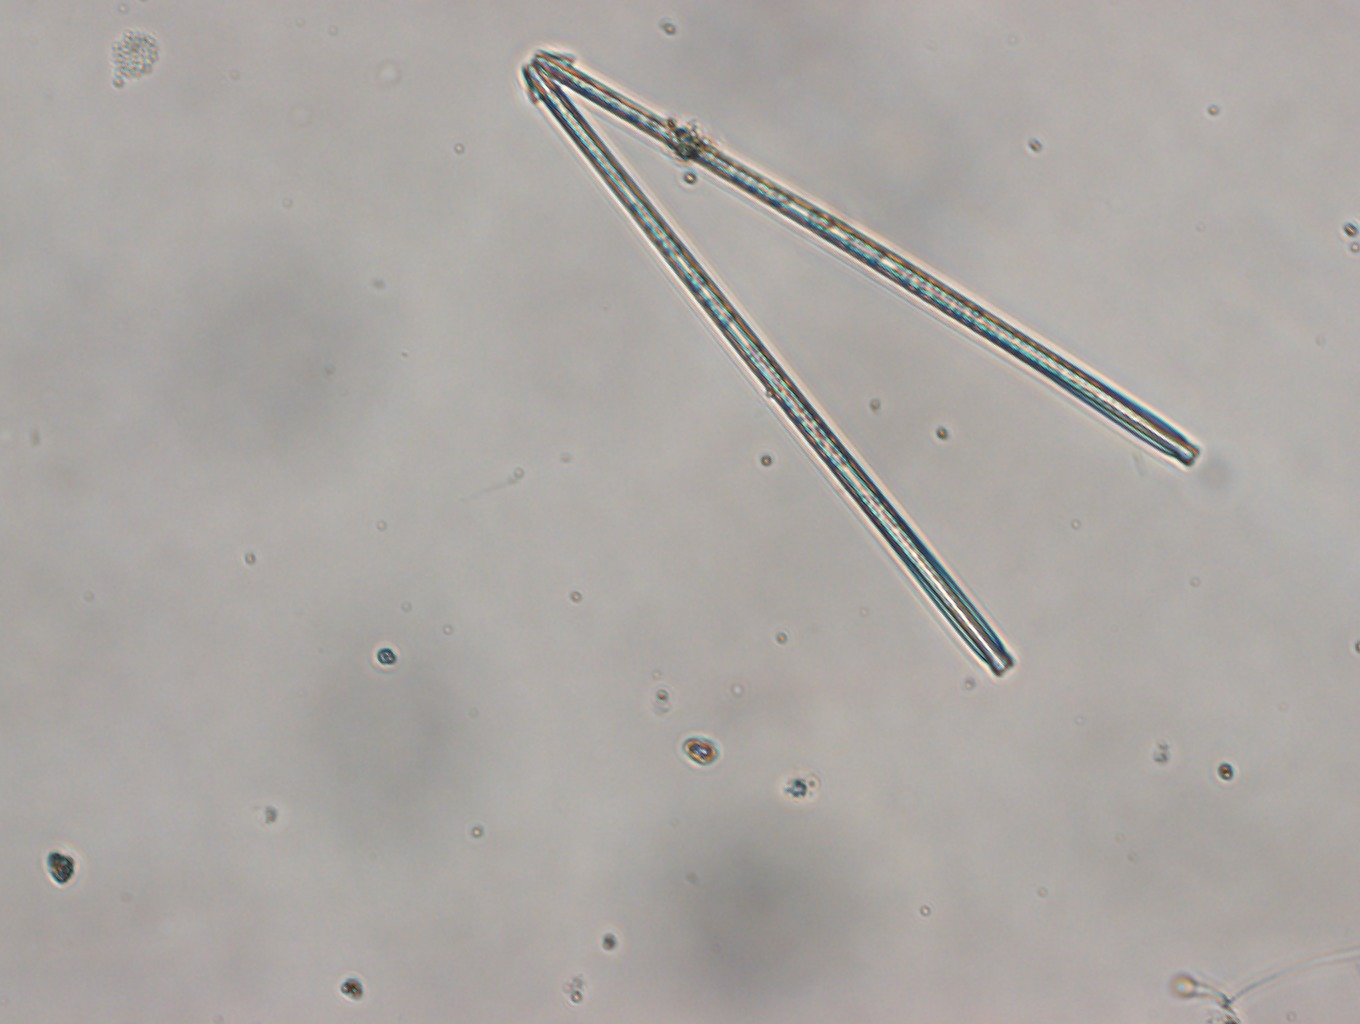thalassionema frauenfeldii: (515, 42, 1203, 681)
